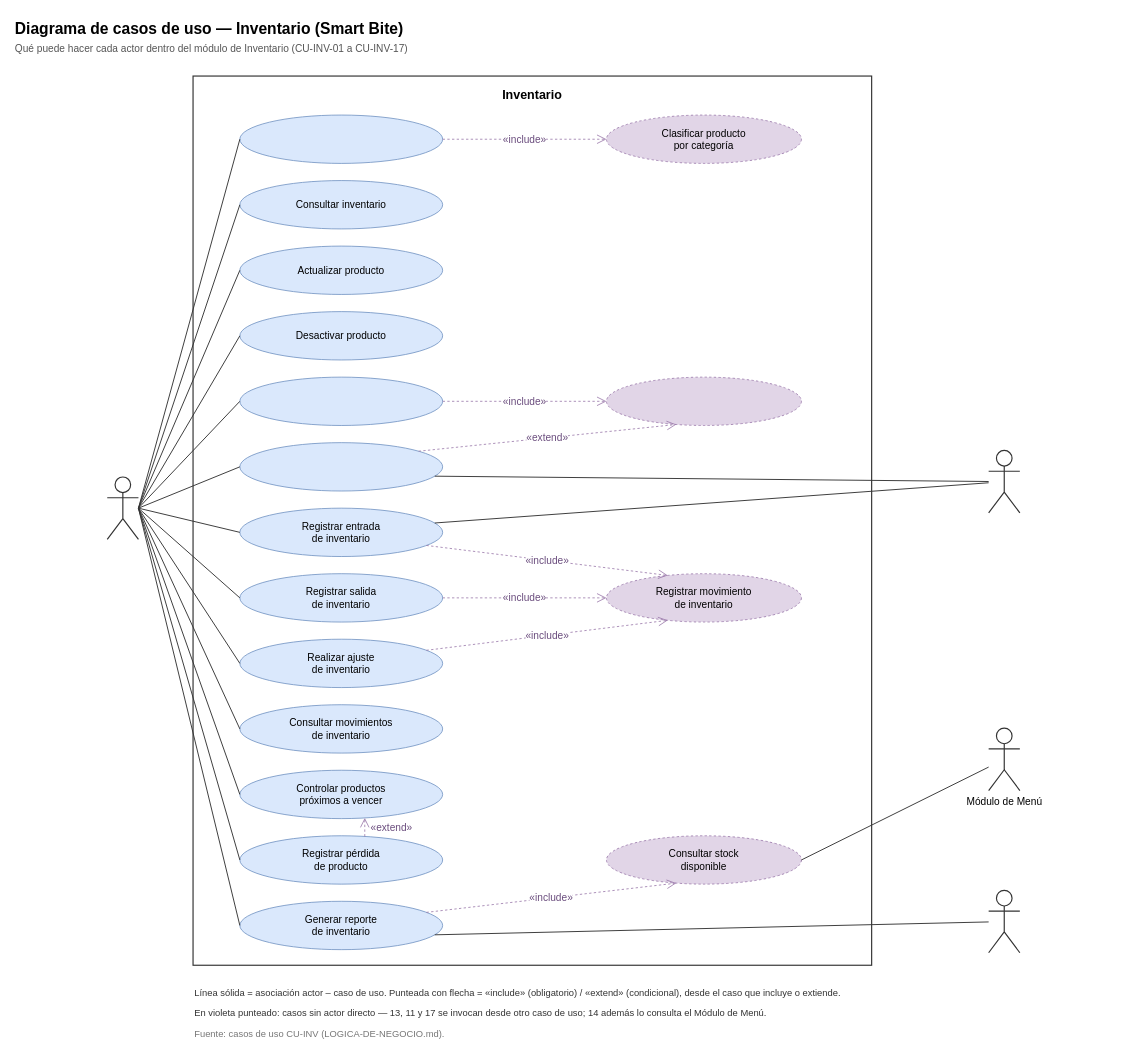
The diagram is 1134 pixels wide and 1055 high, and some of its shapes have lost their labels. The shapes that lost their labels are listed below. From the top down, each one's centre as x and y in pixels, then its label:
At (x=341, y=138): "Registrar producto".
At (x=341, y=400): "Controlar existencias".
At (x=703, y=400): "Consultar stock mínimo".
At (x=341, y=466): "Enviar solicitud de reabastecimiento".
At (x=1004, y=481): "Módulo de Compras".
At (x=122, y=508): "Jefe de Almacén".
At (x=1004, y=921): "Módulo de Administración".
